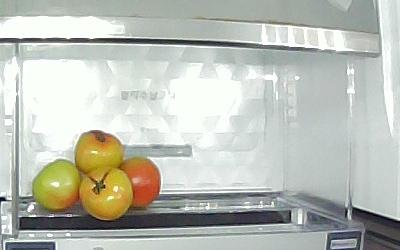tomato: (79, 166, 133, 220), (31, 159, 80, 210), (112, 157, 161, 207), (74, 132, 125, 175)
